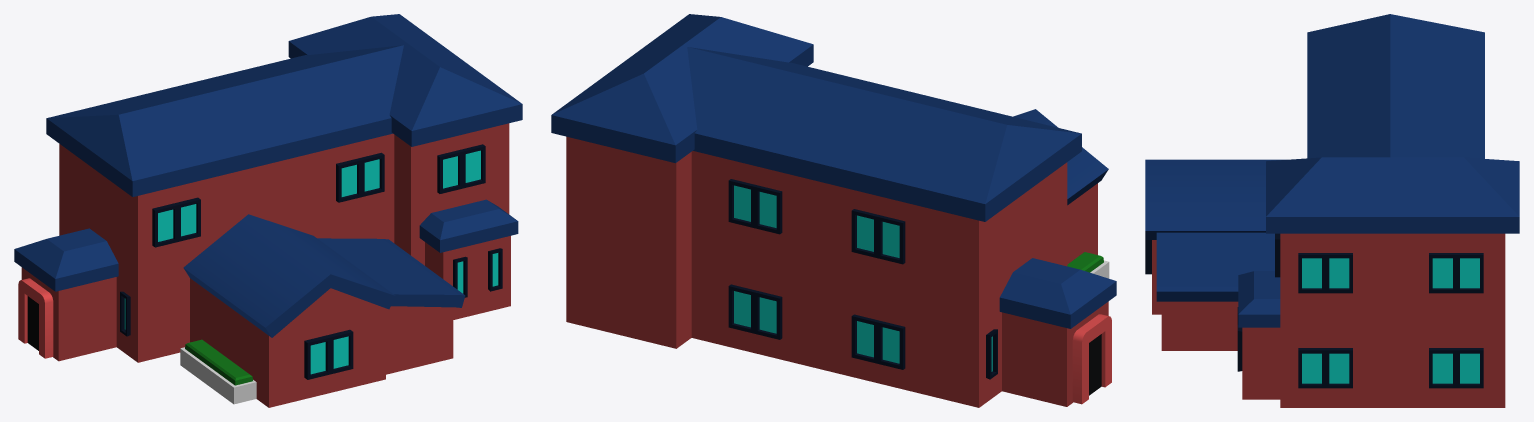
File: House_5.fbx
The picture shows the model from 3 angles, left to right: view 1: azimuth 30°, elevation 25°; view 2: azimuth 150°, elevation 25°; view 3: azimuth 270°, elevation 25°; orthographic projection. The views are drawn at different scales.
Parts seen in each view (by area): view 1: House_5; view 2: House_5; view 3: House_5.
Part boxes in pixels (x1=…): House_5: x1=14, y1=14, x2=522, y2=407; House_5: x1=551, y1=14, x2=1116, y2=407; House_5: x1=1145, y1=14, x2=1519, y2=407.
Size of the model in its own units: 87.85 by 43 by 64.65.
